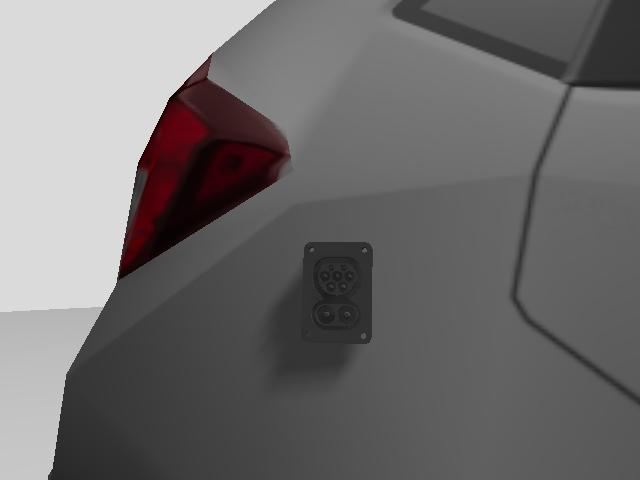EV-socket: (298, 235, 374, 347)
